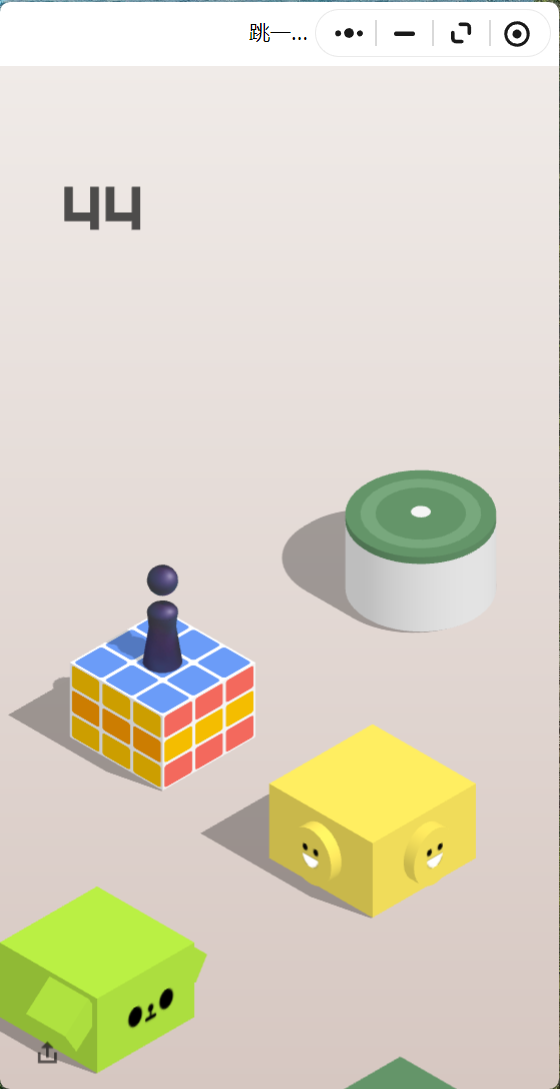piece: (147, 565, 178, 668)
target: (345, 469, 496, 557)
